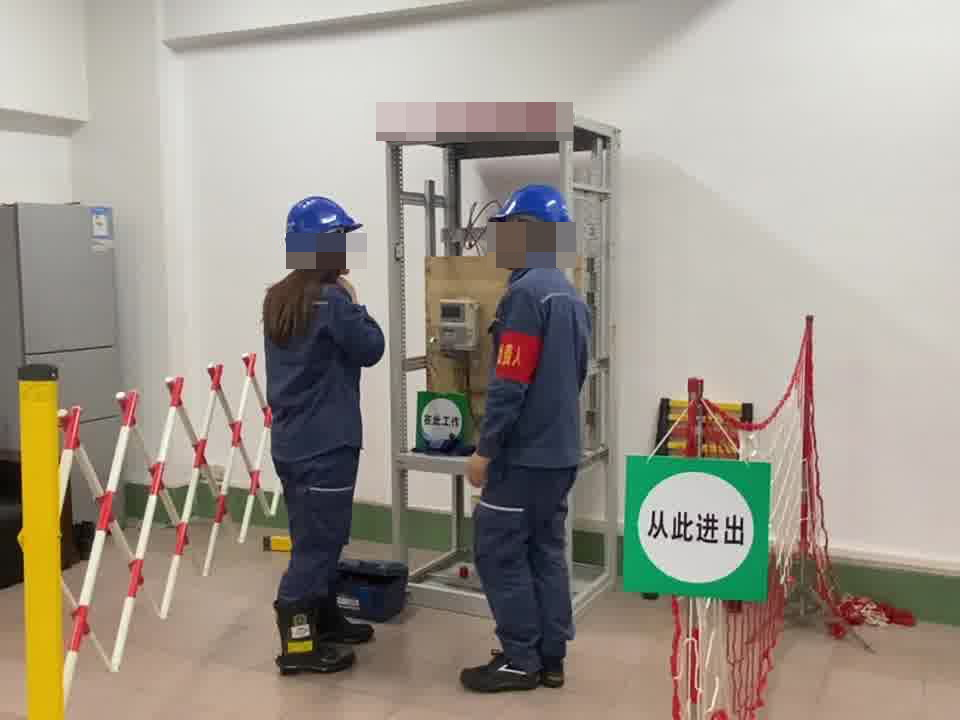badge: (494, 331, 543, 387)
downsuit: (471, 475, 577, 664), (270, 451, 364, 603)
hair: (265, 198, 360, 342)
halt: (489, 184, 574, 264)
hand: (461, 453, 488, 485)
inear: (508, 214, 541, 254)
intosign: (623, 459, 766, 591)
person: (458, 181, 595, 689), (251, 192, 392, 631)
shoe: (276, 600, 371, 674)
upsuit: (480, 259, 591, 462), (258, 277, 385, 447)
worksign: (415, 393, 465, 449)
